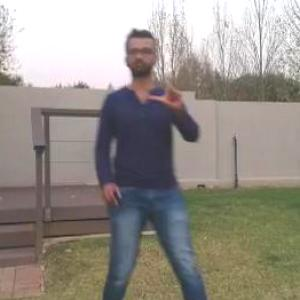land_hand: (148, 69, 186, 110)
